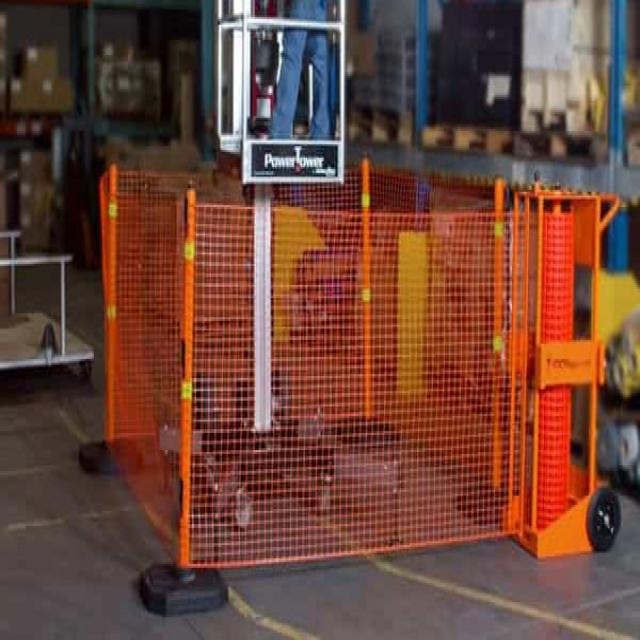cone: (99, 156, 621, 574)
